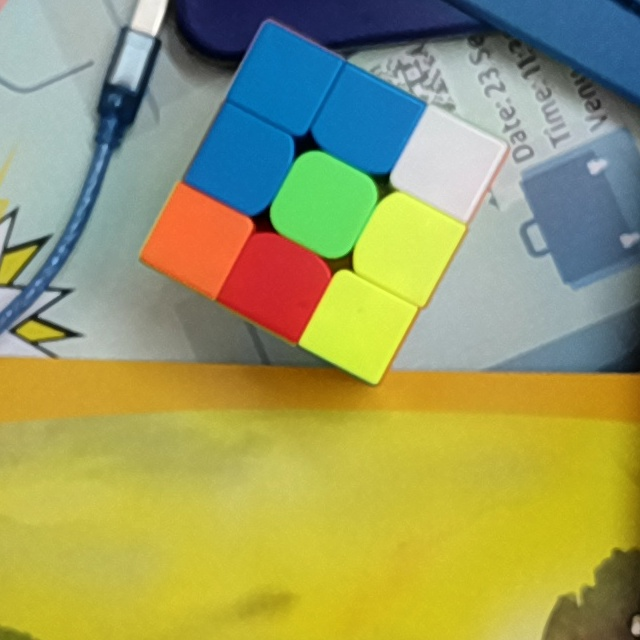tile: (377, 216, 439, 281), (293, 175, 356, 236), (214, 129, 274, 193), (243, 256, 307, 315), (328, 297, 389, 358), (418, 135, 476, 198), (164, 212, 224, 271), (335, 94, 393, 155), (257, 50, 315, 103)
